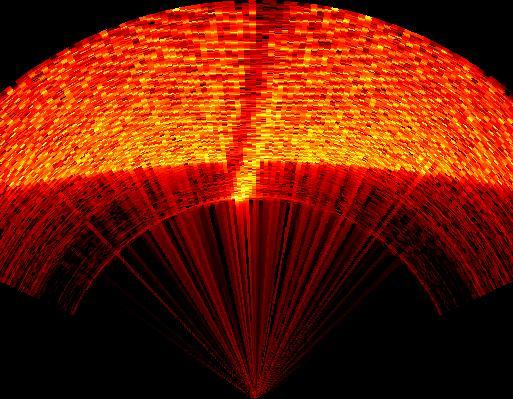pipe: (222, 2, 306, 201)
